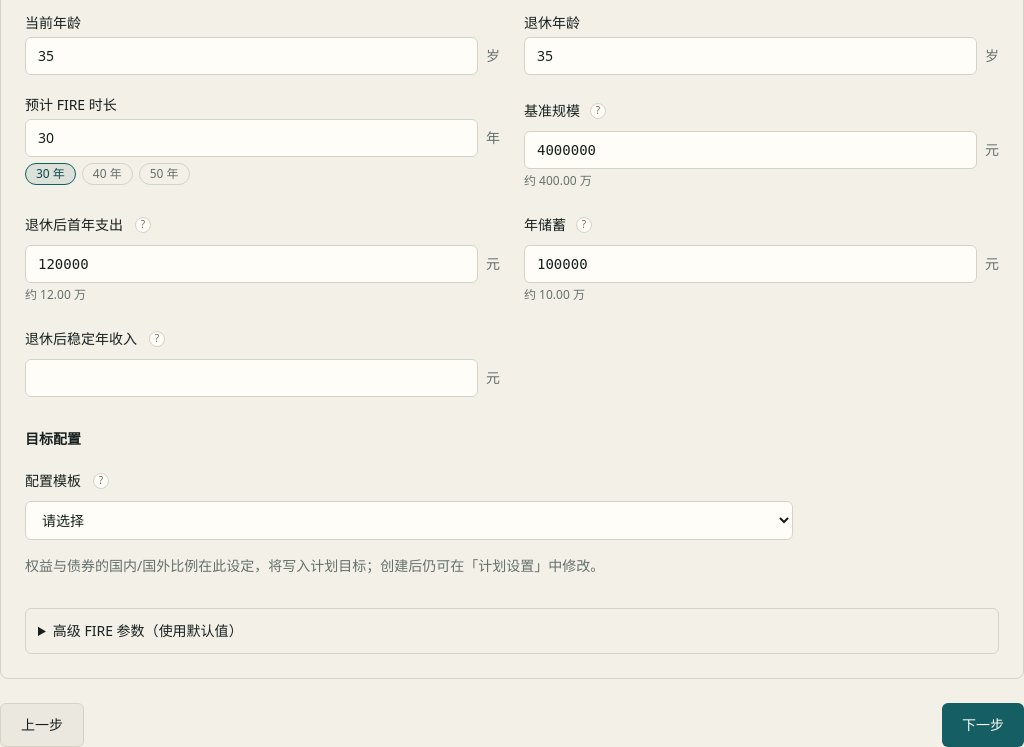
it: NewPlanWizardPage › shows confirm checklist on final step
(page scrolled)
Step 1. Select "测试场景 — 权益 100% / 债券 0% / 现金/其他 0%" in the dropdown labelled "配置模板" → (409, 520), box left=25, top=501, right=793, bottom=540
(page scrolled)
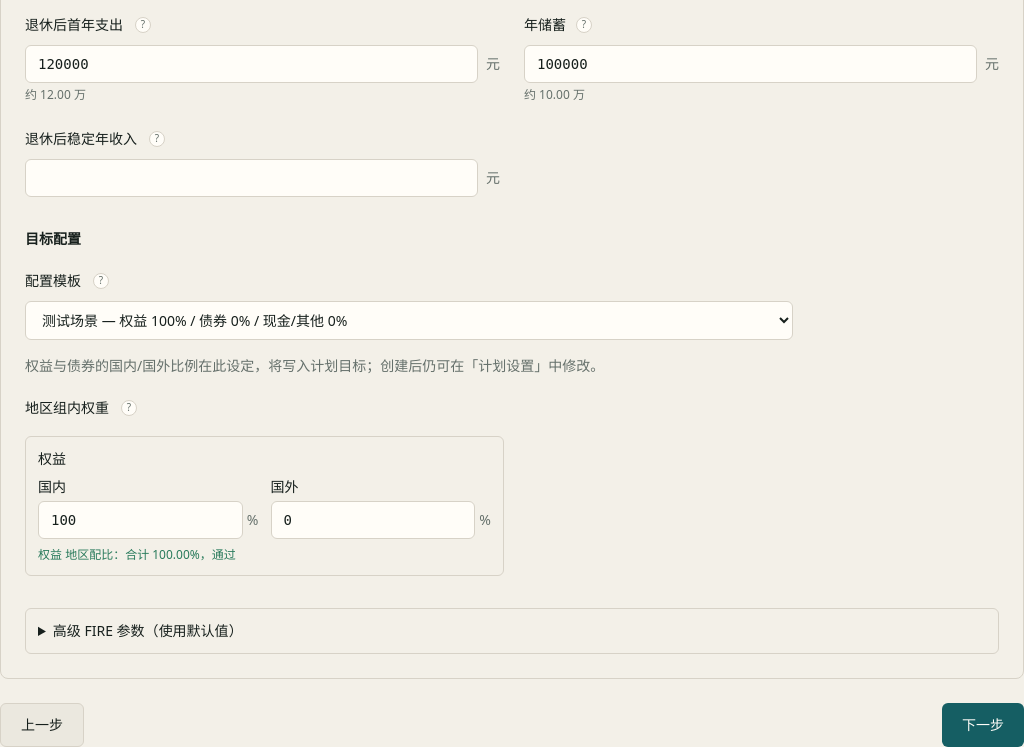
Step 2. Click the button "下一步" → (983, 725), box left=942, top=703, right=1023, bottom=746
(page scrolled)
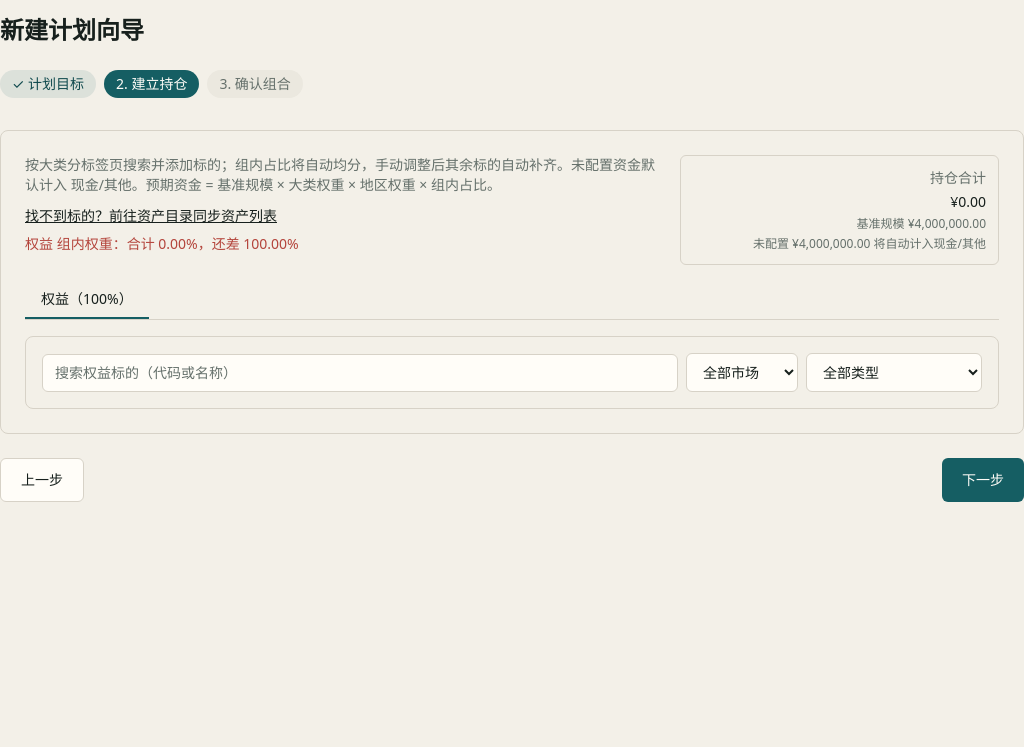
Now the text "按大类分标签页搜索并添加标的" is shown, box left=25, top=155, right=655, bottom=194
Step 3. Type "T1" into the dropdown named "权益国内搜索" → (360, 372), box left=42, top=354, right=678, bottom=392
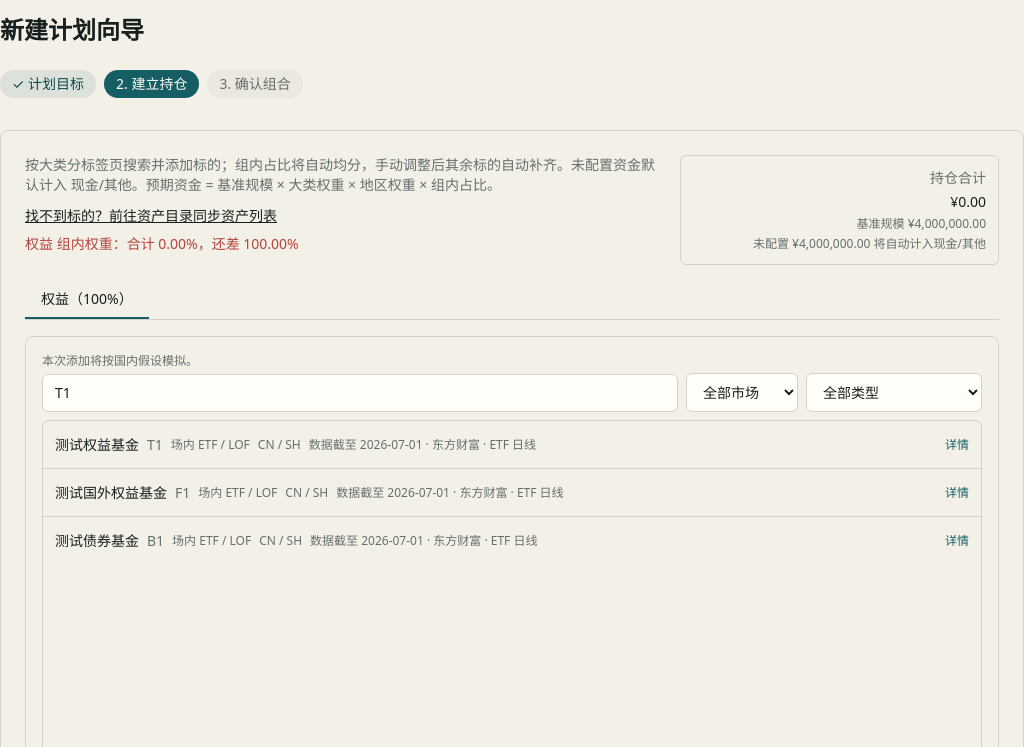
Step 4. Click the button "测试权益基金" → (490, 444), box left=43, top=421, right=937, bottom=468
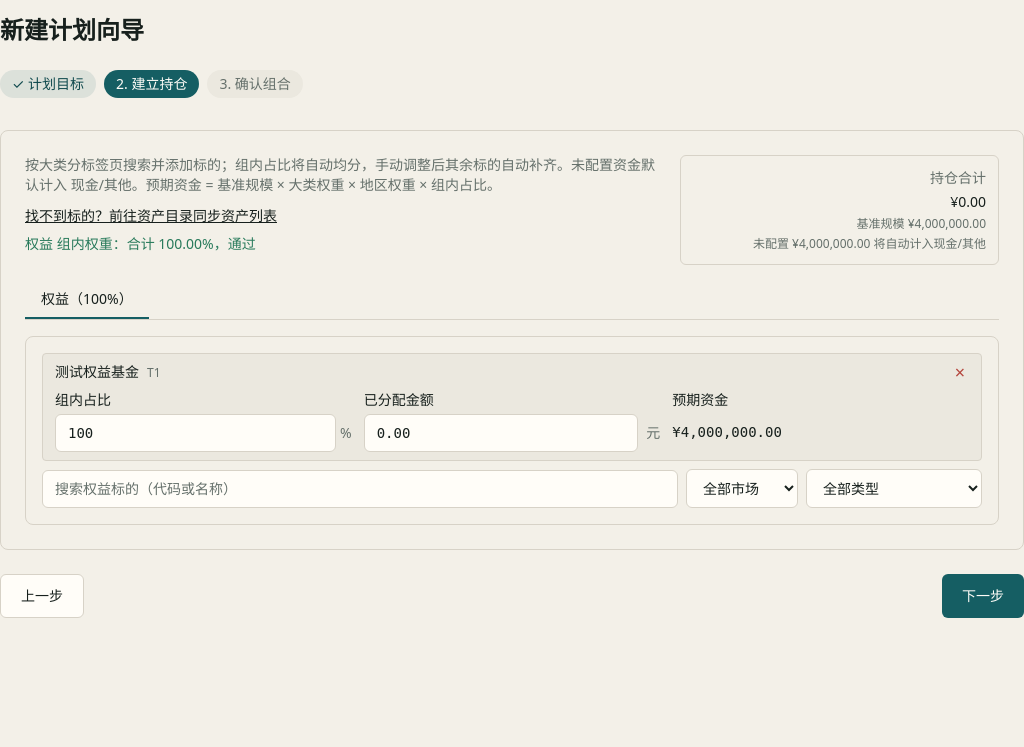
Step 5. Click the button "下一步" → (983, 596), box left=942, top=574, right=1023, bottom=618
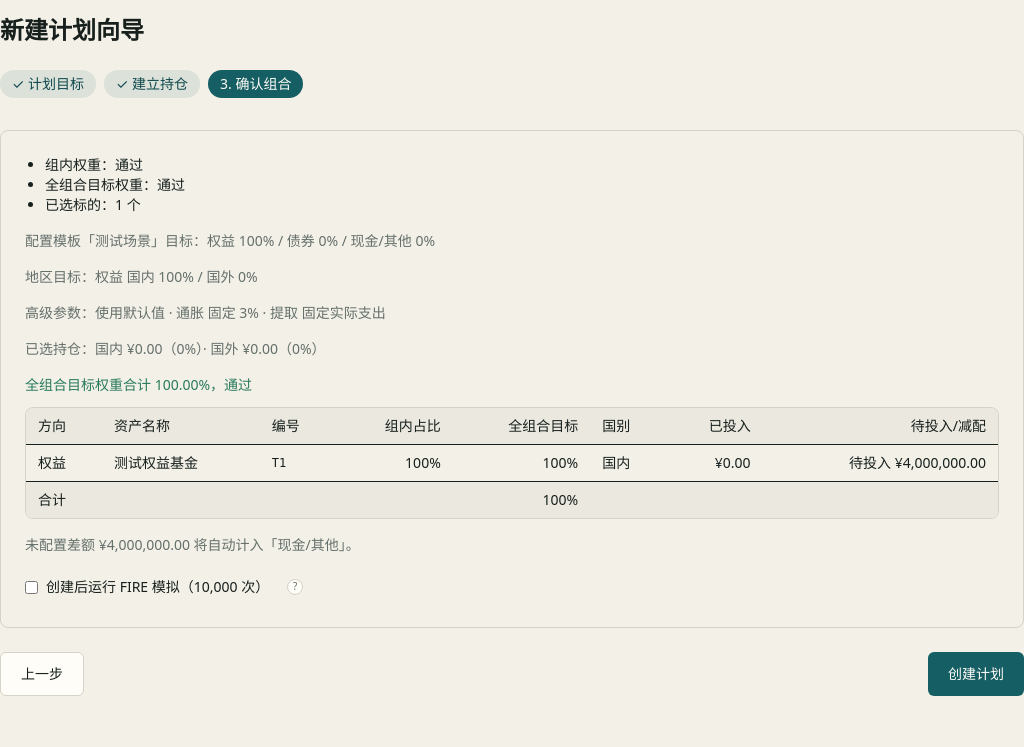
Now the list item "已选标的：1 个" is shown, box left=45, top=195, right=141, bottom=214
Now the list item "组内权重：通过" is shown, box left=45, top=155, right=143, bottom=174
Now the list item "全组合目标权重：通过" is shown, box left=45, top=175, right=185, bottom=194
